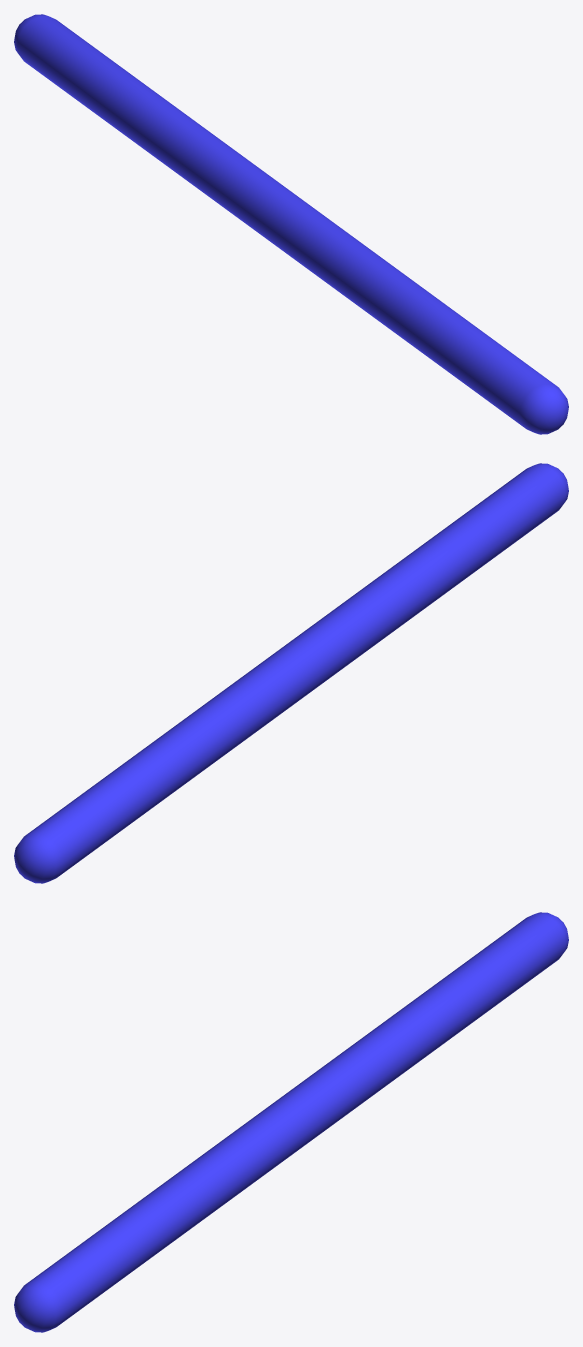
The model's file is WaterBullet.fbx.
3 views of the same model, one above another, from view 1: azimuth 30°, elevation 25°; view 2: azimuth 150°, elevation 25°; view 3: azimuth 330°, elevation 25° (orthographic).
Parts seen in each view (by area): view 1: 胶囊; view 2: 胶囊; view 3: 胶囊.
Part boxes in pixels (<box>): 胶囊: <box>14,14,568,434</box>; 胶囊: <box>14,463,568,883</box>; 胶囊: <box>14,912,568,1332</box>.
Size of the model in its own units: 10 by 10 by 200.
